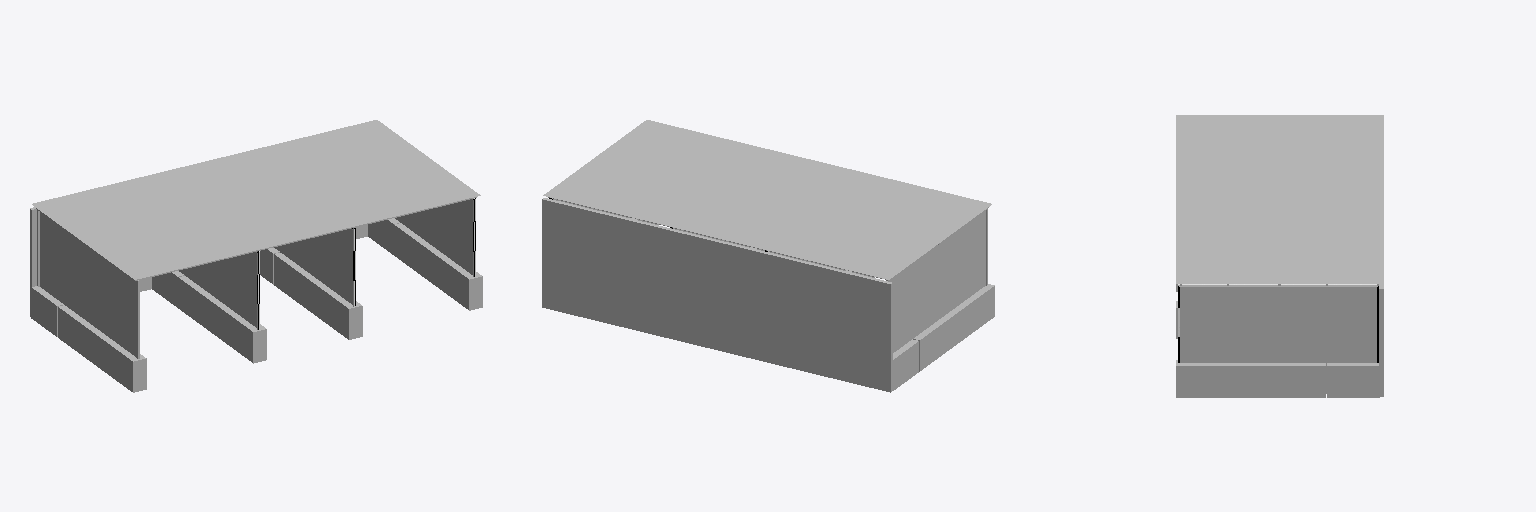
3 views of the same model, side by side, from view 1: azimuth 30°, elevation 25°; view 2: azimuth 150°, elevation 25°; view 3: azimuth 270°, elevation 25° (orthographic).
Visible parts, largest first — view 1: Cabina_Hachas; view 2: Cabina_Hachas; view 3: Cabina_Hachas.
Part boxes in pixels (left/top/right/bottom): Cabina_Hachas: left=30, top=120, right=482, bottom=392; Cabina_Hachas: left=542, top=120, right=994, bottom=392; Cabina_Hachas: left=1176, top=115, right=1383, bottom=397.
Bounding box in the file's own units: 11.72 × 3.59 × 6.04.
7 materials, 1 textured.